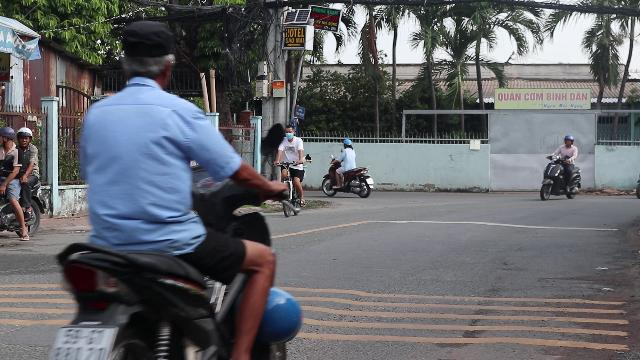helmet: (0, 124, 16, 148), (15, 127, 32, 147)
licenseplate: (49, 326, 114, 358)
motorcyclist: (49, 20, 308, 356), (0, 124, 44, 244)
nohelmet: (114, 21, 178, 90)
